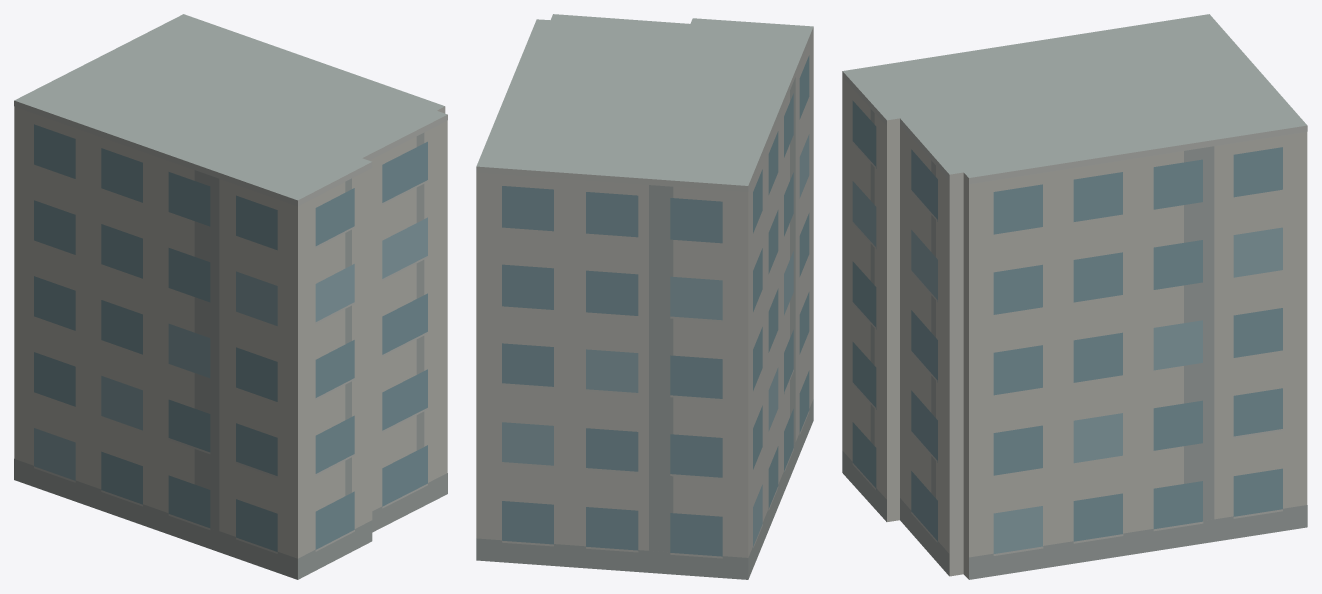
Rendered from survey-upis-32838221.glb.
The picture shows the model from 3 angles, left to right: view 1: azimuth 30°, elevation 25°; view 2: azimuth 150°, elevation 25°; view 3: azimuth 270°, elevation 25°; orthographic projection. The views are drawn at different scales.
Visible parts, largest first — view 1: survey-upis-32838221.tmp; view 2: survey-upis-32838221.tmp; view 3: survey-upis-32838221.tmp.
Boxes of the visible parts, x1,y1,x2,y2 form: survey-upis-32838221.tmp: (14, 14, 447, 579); survey-upis-32838221.tmp: (476, 14, 813, 579); survey-upis-32838221.tmp: (842, 14, 1307, 579).
Bounding box in the file's own units: 13.75 × 15.7 × 16.48.
